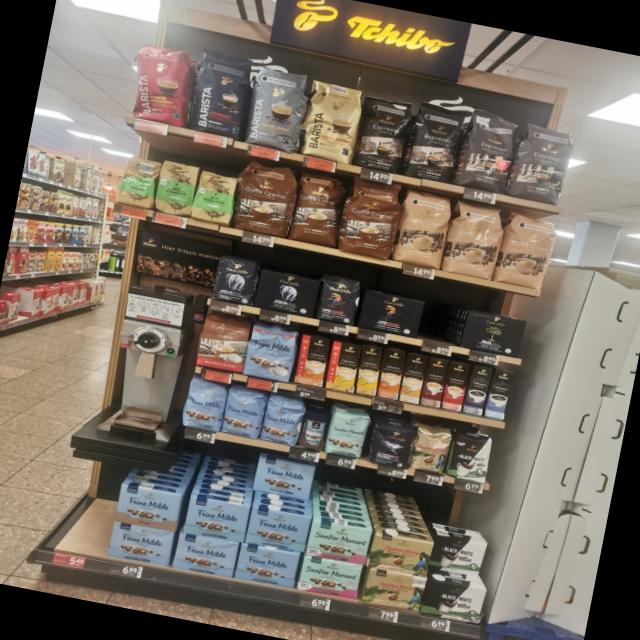AB Bohne: (211, 255, 260, 308)
AB Gemahlen: (252, 268, 322, 318)
Athiopien Bohne: (114, 154, 162, 210)
Athiopien Gemahlen: (191, 168, 240, 227), (153, 157, 200, 218)
BM Gemahlen: (459, 309, 528, 359)
BW Bohne: (447, 430, 496, 486)
BW Gemahlen: (422, 578, 488, 625), (428, 533, 490, 578)
Barista CB: (298, 78, 368, 166)
Barista CC: (244, 65, 312, 153)
Barista Espresso: (187, 46, 258, 140)
Barista Kolumbien: (125, 39, 200, 128)
C Fino Bohne: (367, 417, 418, 470)
CC Mild: (442, 198, 508, 280), (496, 209, 560, 291), (392, 188, 456, 270)
CC Vollmundig: (196, 312, 252, 374)
CC Vollmundig 36 Pads: (338, 176, 405, 261), (231, 156, 299, 238), (286, 168, 348, 248)
Colombia BB Bohne: (408, 424, 453, 476)
Colombia BB Gemahlen: (368, 530, 436, 578), (363, 566, 428, 614)
Empty Shelf: (422, 293, 467, 346)
Espresso Kraftig: (405, 100, 470, 185), (352, 94, 415, 175)
Espresso M Art: (508, 120, 576, 206), (458, 106, 522, 194)
FM 36 Pads: (242, 322, 300, 383)
FM Bohne: (180, 376, 229, 434), (220, 386, 268, 441), (260, 395, 306, 447)
FM Gemahlen: (112, 482, 182, 532), (105, 520, 175, 569), (183, 494, 251, 544), (172, 531, 240, 580), (234, 542, 302, 590), (245, 506, 312, 554), (252, 455, 316, 501)
FM Instant: (298, 408, 332, 452)
LG Bohne: (313, 274, 362, 328)
LG Gemahlen: (358, 289, 428, 338)
SM Bohne: (326, 408, 372, 459)
SM Gemahlen: (296, 553, 363, 601), (306, 519, 372, 566)
Simo CCMild: (324, 340, 362, 393)
Simo CCMild bigpack: (356, 344, 383, 396)
Simo CCVollmundig: (294, 334, 330, 386)
Simo CCVollmundig bigpack: (376, 348, 406, 400)
Simo Decaff: (400, 352, 428, 404)
Simo Es Brazil: (441, 360, 471, 412)
Simo Es Caramel: (420, 356, 449, 408)
Simo Es Kraft: (463, 364, 493, 416)
Simo Es Vanilla: (485, 368, 514, 420)
